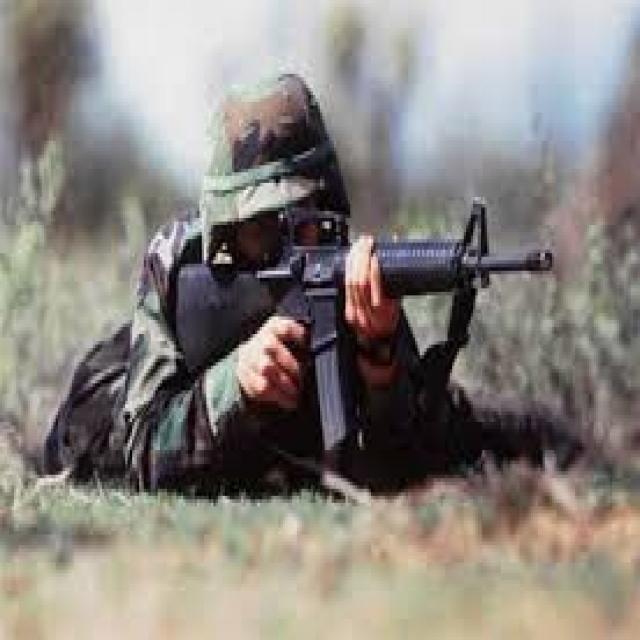m16: (156, 172, 581, 488)
